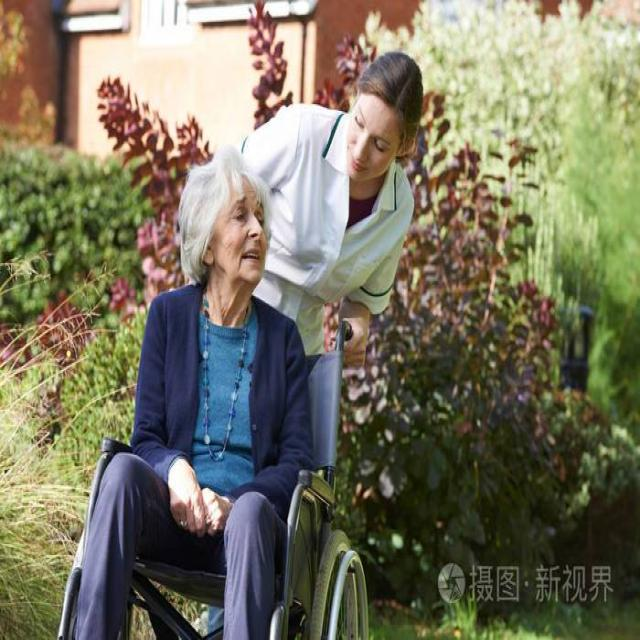wheelchairs: (47, 312, 377, 640)
